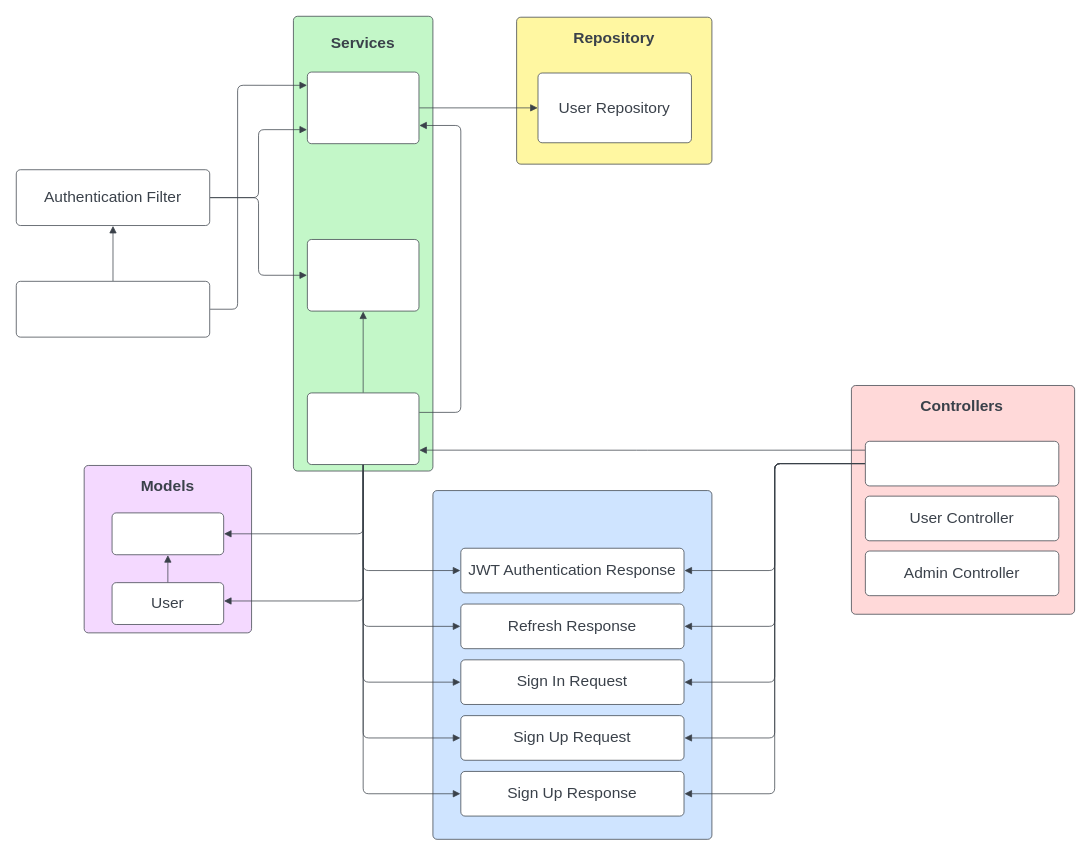
Image size: 1091x856. Some labels were removed from this diagram. The centre of each missing label's shape, as x and y in pixels:
"Authentication Controller" goes at (962,463).
"Authentication Service" goes at (363,428).
"HTTP Request / Response DTO" goes at (572,510).
"JWT Service" goes at (363,275).
"Role" goes at (167,533).
"Security Configuration" goes at (112,308).
"User Service" goes at (363,107).
